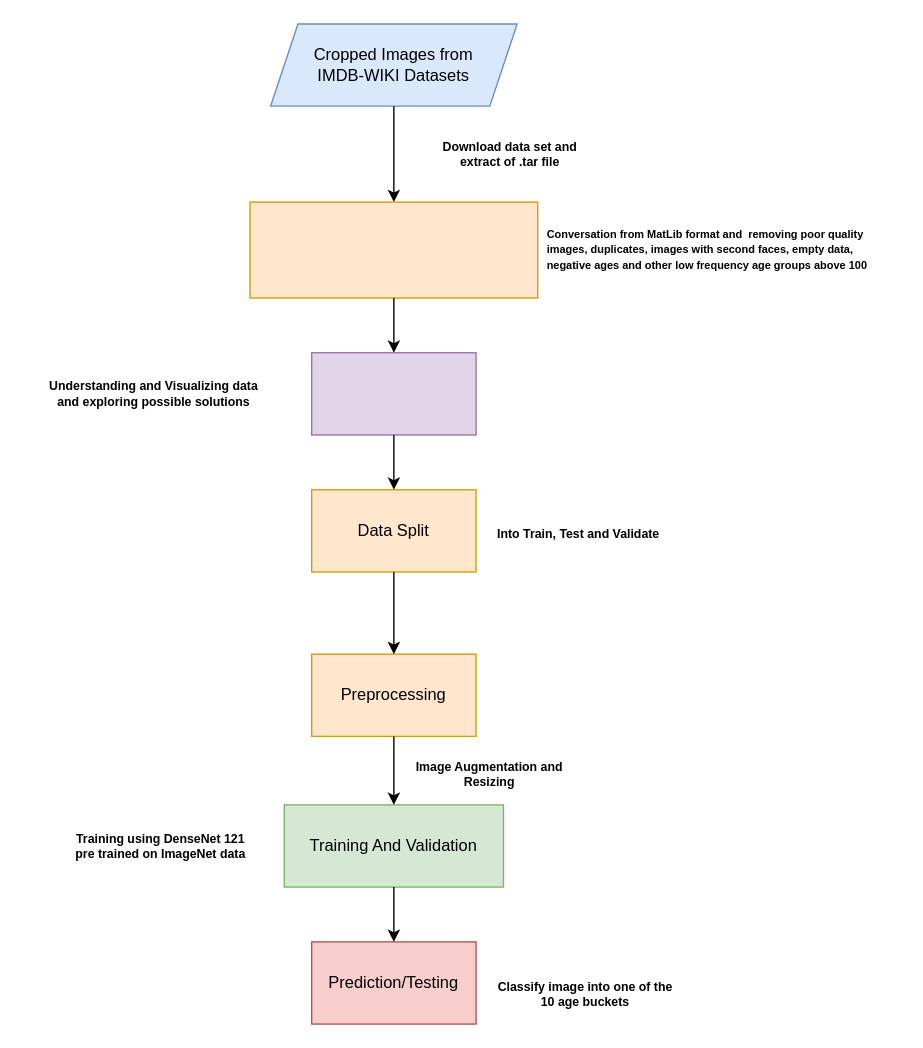
Some shapes in this 923 by 1048 pixel diagram are drawn without their labels. The shapes that lost their labels are listed below. From the top down, each one's box as (x1, y1, x2, y2) in pixels, then its label:
(249, 201, 538, 298): Data extraction and Cleaning
(310, 351, 476, 435): Analysis
